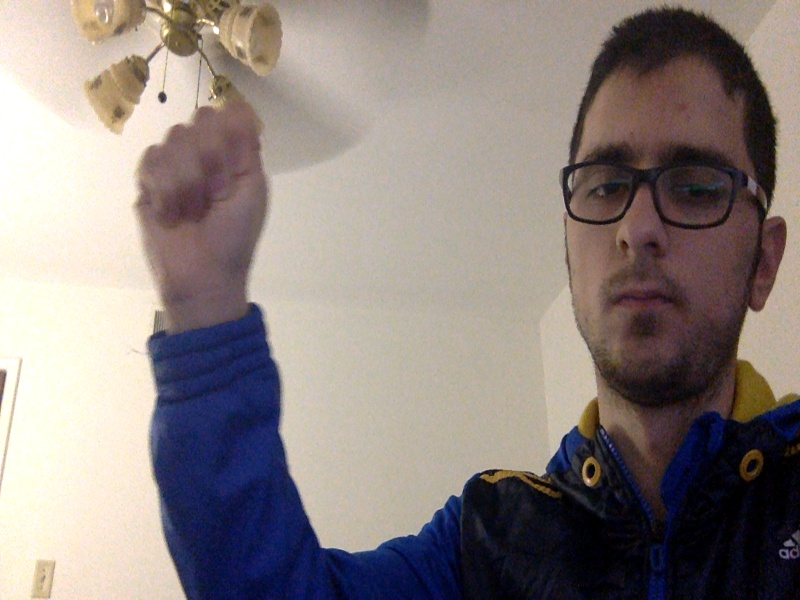0-hand: (131, 103, 273, 300)
